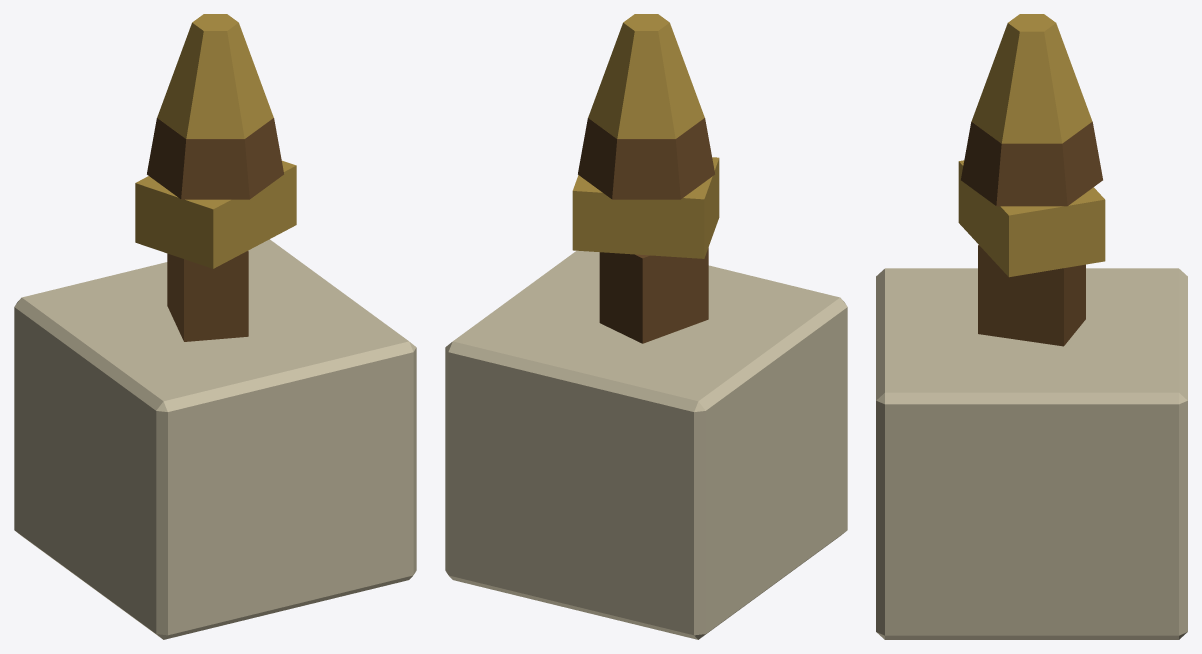
The model's file is sculpture-22.glb.
The picture shows the model from 3 angles, left to right: view 1: azimuth 30°, elevation 25°; view 2: azimuth 150°, elevation 25°; view 3: azimuth 270°, elevation 25°; orthographic projection. The views are drawn at different scales.
Parts seen in each view (by area): view 1: sculpture_22; view 2: sculpture_22; view 3: sculpture_22.
Part boxes in pixels (box(x1,y1,x2,y2)): sculpture_22: box(14, 14, 416, 639); sculpture_22: box(445, 14, 847, 639); sculpture_22: box(876, 14, 1187, 639).
Bounding box in the file's own units: 0.2111 × 0.4148 × 0.2111.
